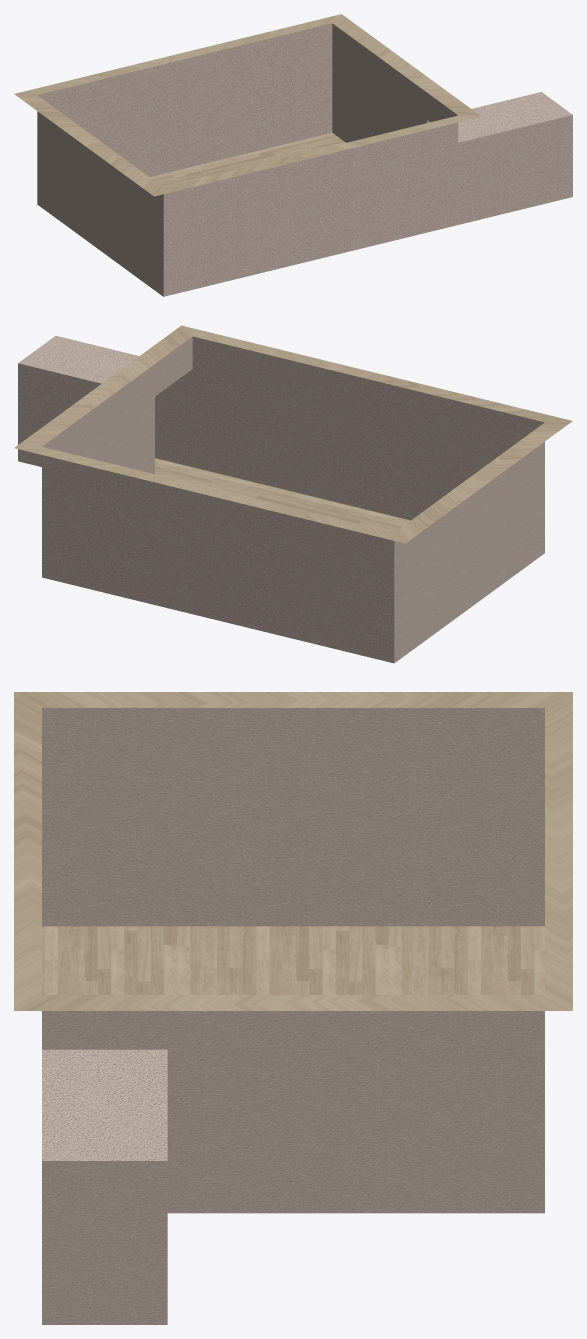
The model's file is playerlobby.fbx.
3 renders of one model, top to bottom at view 1: azimuth 30°, elevation 25°; view 2: azimuth 150°, elevation 25°; view 3: azimuth 270°, elevation 25°, orthographic. The views are drawn at different scales.
Visible parts, largest first — view 1: Cube; view 2: Cube; view 3: Cube.
Part boxes in pixels (x1,y1,x2,y2): Cube: (14,14,572,296); Cube: (14,325,572,663); Cube: (14,692,572,1324).
Size of the model in its own units: 806 by 198 by 460.
Materials: 2 (2 with a texture image).
